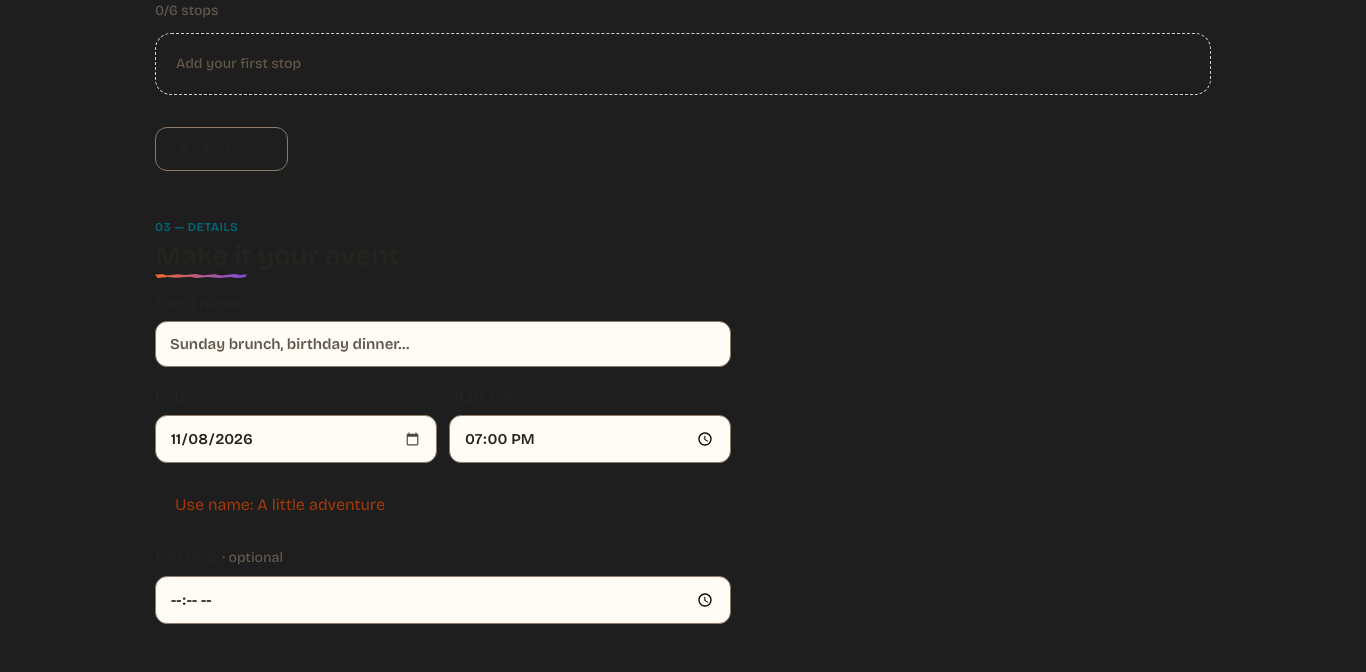
Test: unified planner interactions › validates overnight details and keeps the draft when backend timing support is absent
The width and height of the screenshot is (1366, 672).
Later steps or results of the test are not shown.
(page scrolled)
Type "QA night" into the field labelled "Event name". click: (443, 344)
box: [155,321,731,367]
(page scrolled)
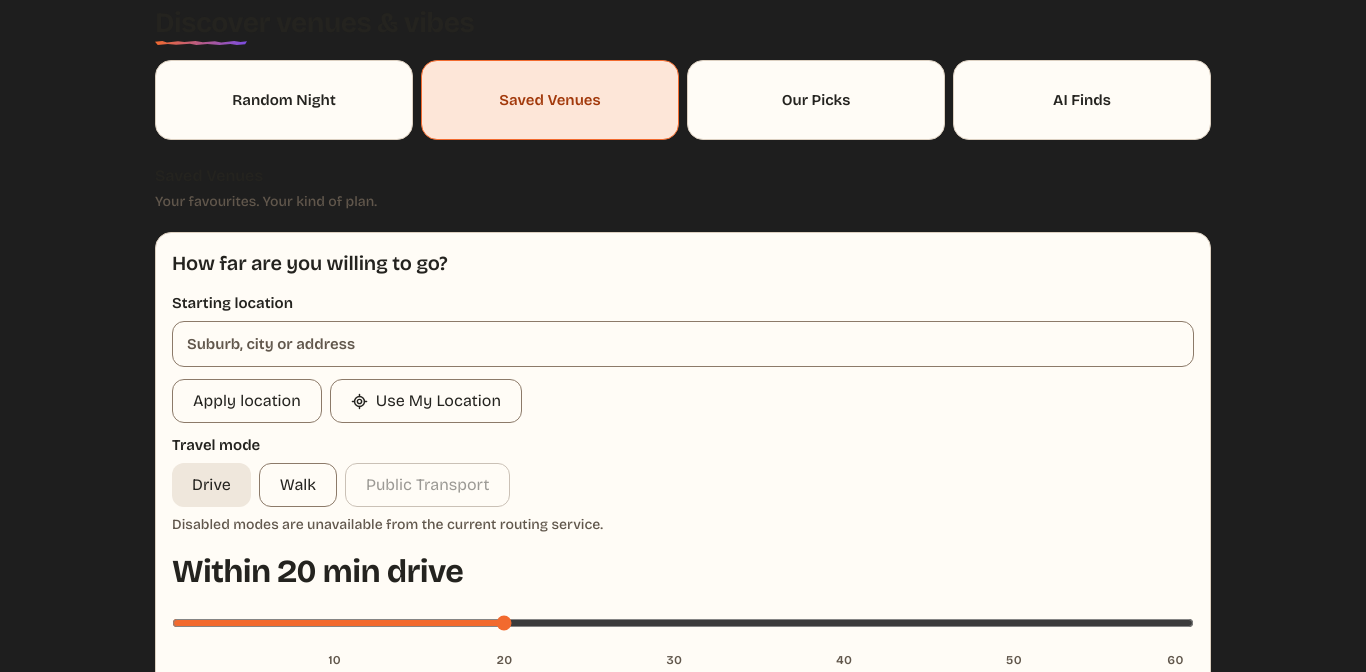
Type "Sydney" into the field labelled "Starting location". click: (683, 344)
box: [172,321,1194,367]
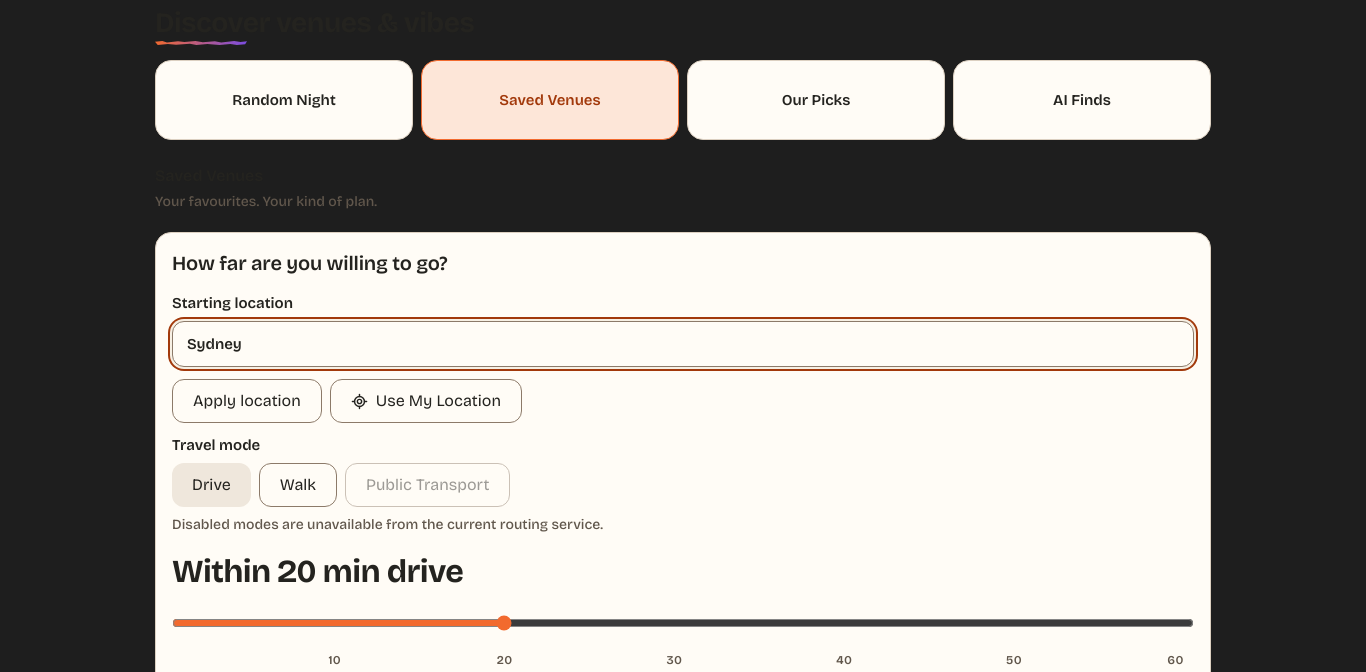
Click the button "Apply location". click: (247, 401)
box: [172,379,322,423]
(page scrolled)
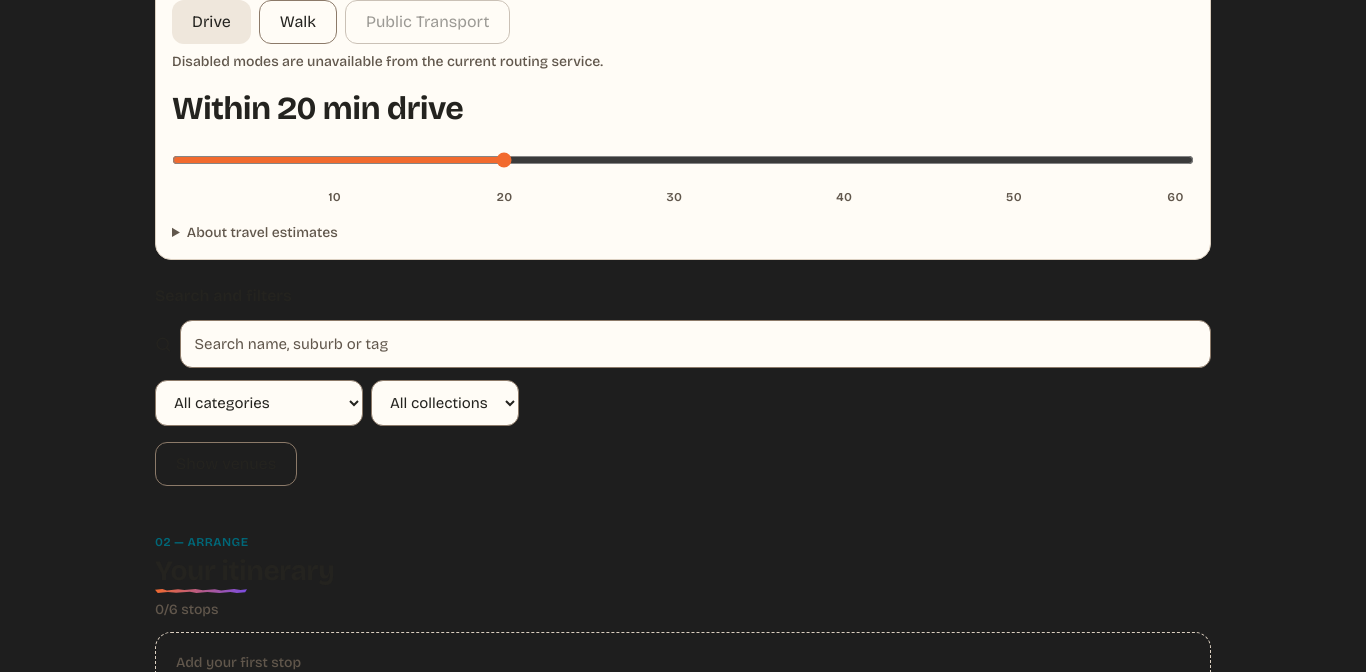
Click the field named "Search venues". click: (695, 344)
box: [180,320,1211,368]
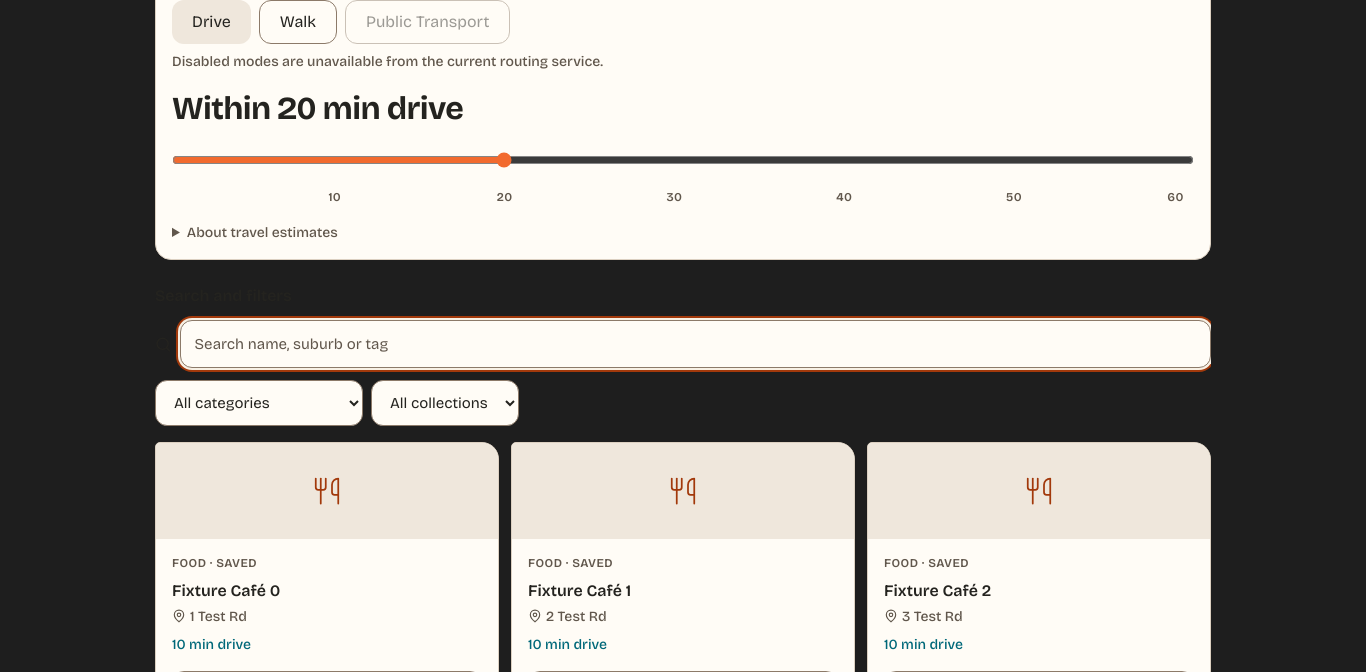
Expected: the heading "Fixture Café 0" is shown, [172,581,280,600]
